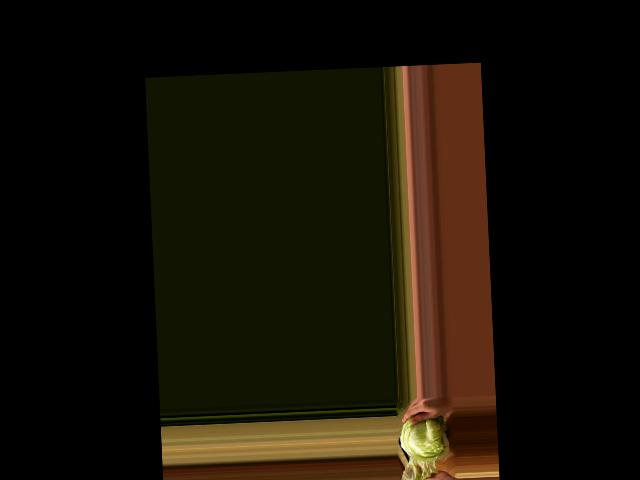lettuce: (397, 410, 453, 473)
